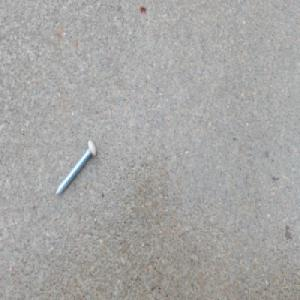Nail: (54, 138, 97, 199)
